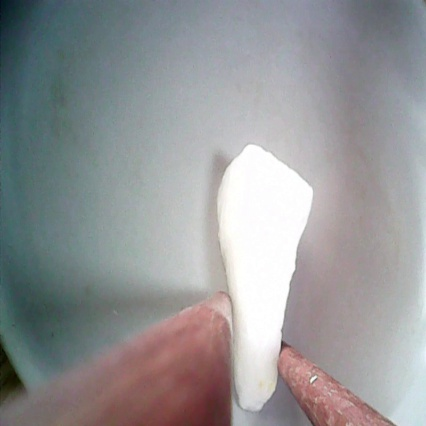white_chinese-yam: (208, 141, 317, 415)
